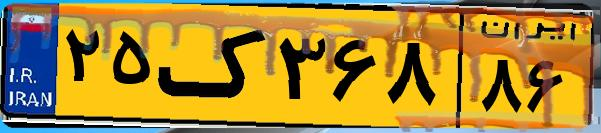2: (57, 26, 110, 100)
3: (270, 28, 330, 110)
5: (110, 28, 158, 98)
6: (330, 28, 385, 110), (525, 38, 570, 115)
8: (385, 28, 445, 110), (475, 38, 525, 113)
ک: (158, 12, 270, 120)
